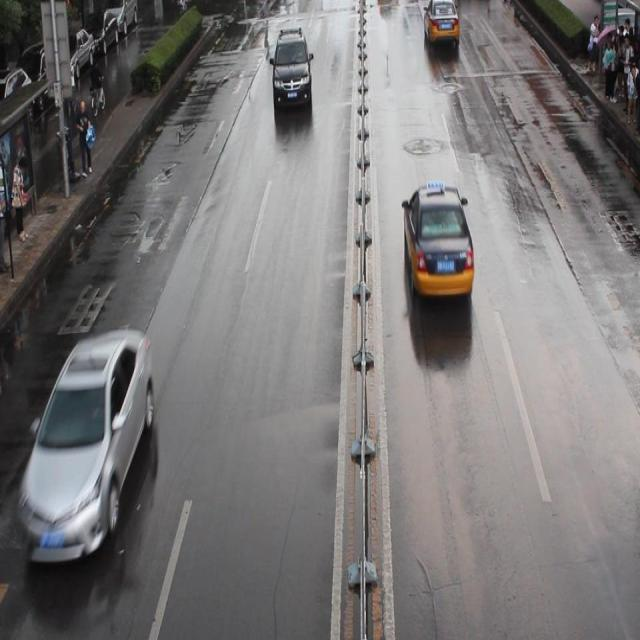car: (21, 325, 154, 565), (402, 182, 473, 298), (272, 29, 311, 108), (422, 2, 458, 48)
